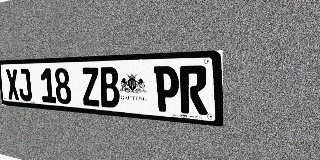1: (39, 68, 56, 103)
8: (54, 68, 72, 104)
B: (99, 67, 120, 108)
J: (17, 69, 32, 101)
P: (154, 66, 180, 113)
R: (179, 65, 208, 115)
X: (5, 69, 20, 100)
Z: (81, 67, 101, 107)
